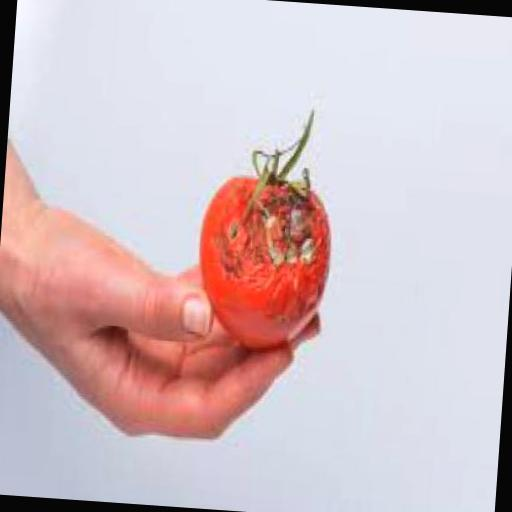biodegradable: (192, 100, 338, 350)
